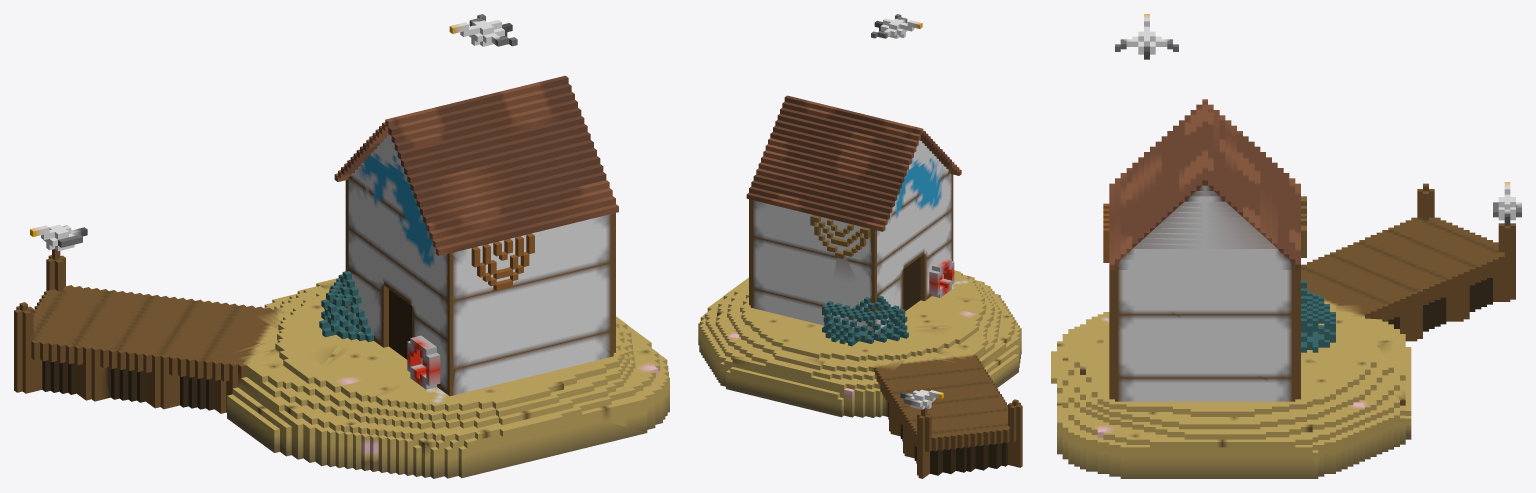
Rendered from Modell_Port.dae.
3 views of the same model, side by side, from view 1: azimuth 30°, elevation 25°; view 2: azimuth 150°, elevation 25°; view 3: azimuth 270°, elevation 25° (orthographic). The views are drawn at different scales.
Visible parts, largest first — view 1: modell_port.port; view 2: modell_port.port; view 3: modell_port.port.
Boxes of the visible parts, <box> form: modell_port.port: <box>14,14,669,478</box>; modell_port.port: <box>698,14,1022,478</box>; modell_port.port: <box>1051,14,1521,478</box>.
Size of the model in its own units: 8.9 by 8.1 by 7.1.
Materials: 1 (1 with a texture image).
